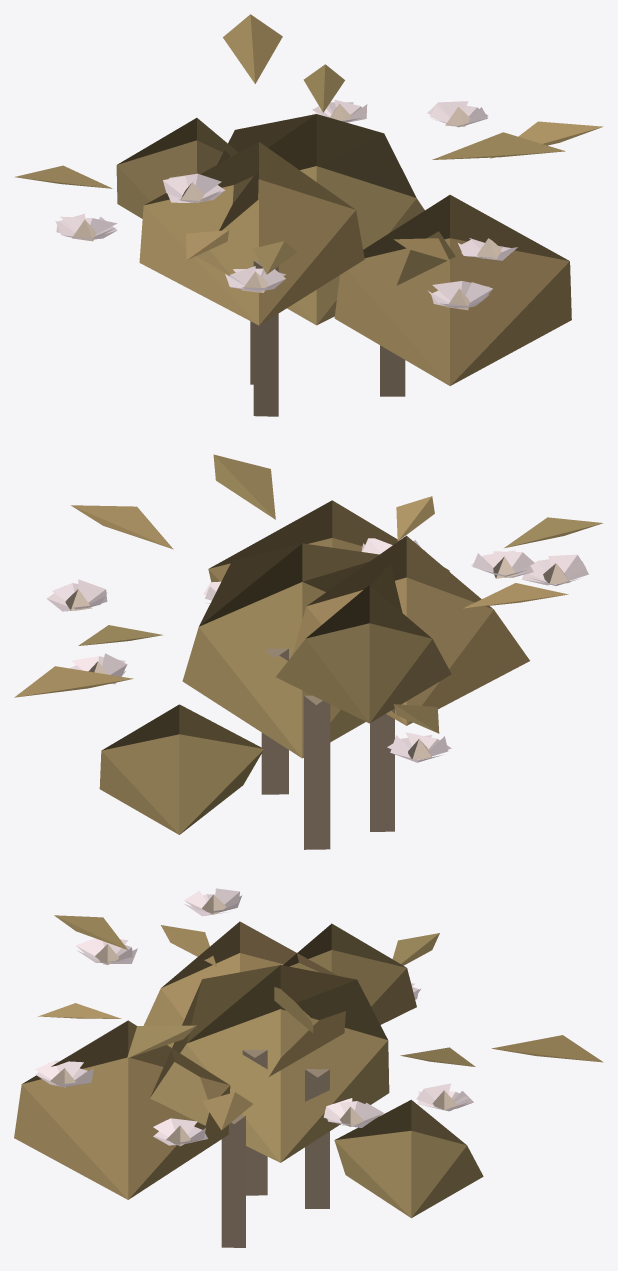
Rendered from guan.zhizi@flowering__autumn.glb.
The picture shows the model from 3 angles, top to bottom: view 1: azimuth 30°, elevation 25°; view 2: azimuth 150°, elevation 25°; view 3: azimuth 270°, elevation 25°; orthographic projection. The views are drawn at different scales.
Visible parts, largest first — view 1: guan.zhizi@flowering__autumn; view 2: guan.zhizi@flowering__autumn; view 3: guan.zhizi@flowering__autumn.
Part boxes in pixels (bbox=[...]): guan.zhizi@flowering__autumn: bbox=[15, 14, 603, 416]; guan.zhizi@flowering__autumn: bbox=[14, 454, 603, 849]; guan.zhizi@flowering__autumn: bbox=[14, 888, 603, 1247].
Size of the model in its own units: 2.51 by 1.46 by 2.89.
